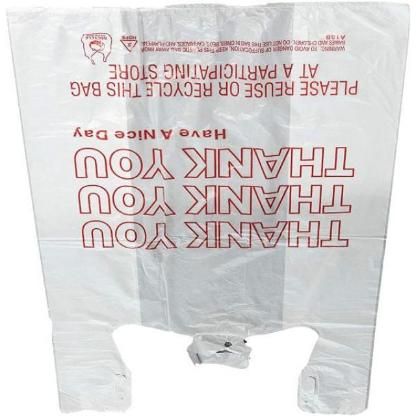Others: (6, 0, 410, 414)
